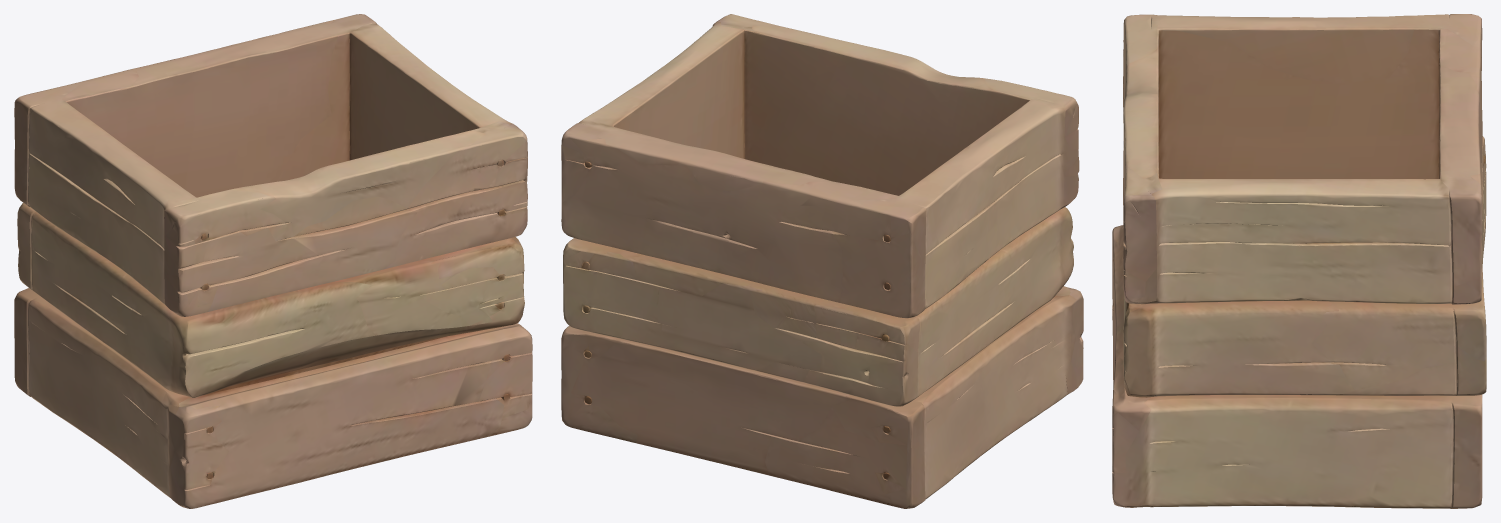
File: prop-crates.glb
The picture shows the model from 3 angles, left to right: view 1: azimuth 30°, elevation 25°; view 2: azimuth 150°, elevation 25°; view 3: azimuth 270°, elevation 25°; orthographic projection. The views are drawn at different scales.
Parts seen in each view (by area): view 1: model; view 2: model; view 3: model.
Boxes of the visible parts, x1,y1,x2,y2 form: model: (14, 14, 532, 508); model: (561, 14, 1083, 508); model: (1112, 14, 1486, 508).
Bounding box in the file's own units: 1.9 × 1.52 × 1.63.
1 material, 1 textured.
